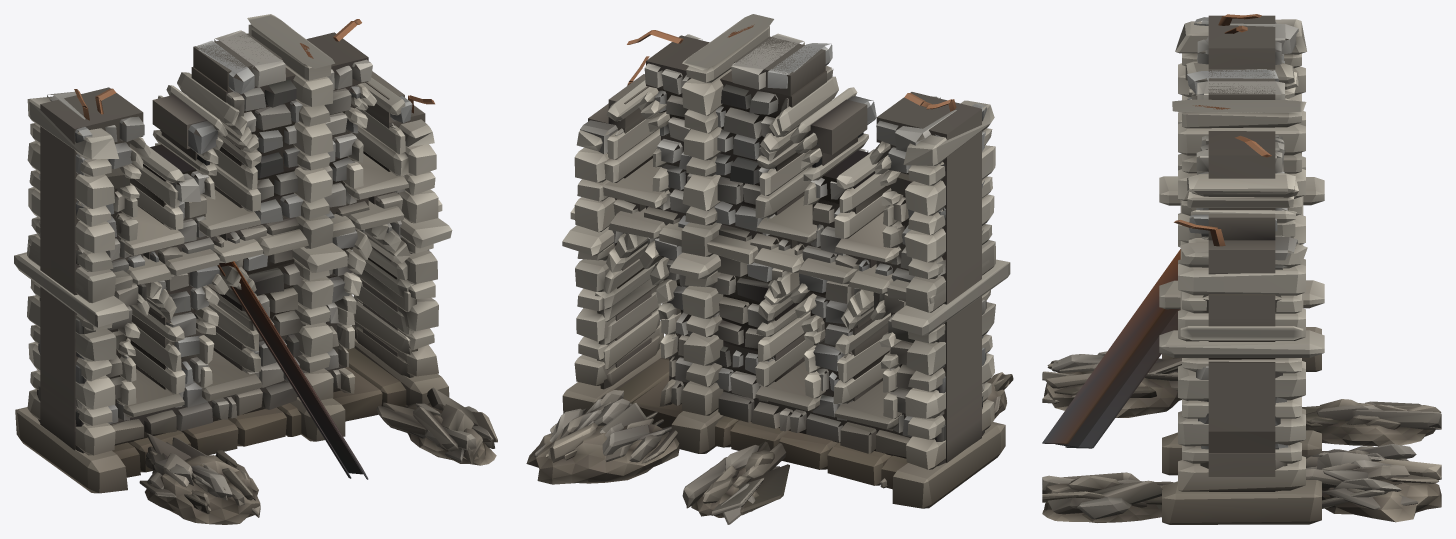
The model's file is ruined-wall.glb.
3 renders of one model, left to right at view 1: azimuth 30°, elevation 25°; view 2: azimuth 150°, elevation 25°; view 3: azimuth 270°, elevation 25°, orthographic. The views are drawn at different scales.
Visible parts, largest first — view 1: ruined-wall; view 2: ruined-wall; view 3: ruined-wall.
Boxes of the visible parts, left/top/right/bottom form: ruined-wall: left=14, top=14, right=497, bottom=524; ruined-wall: left=526, top=14, right=1013, bottom=524; ruined-wall: left=1042, top=14, right=1441, bottom=524.
Size of the model in its own units: 1 by 1 by 1.
